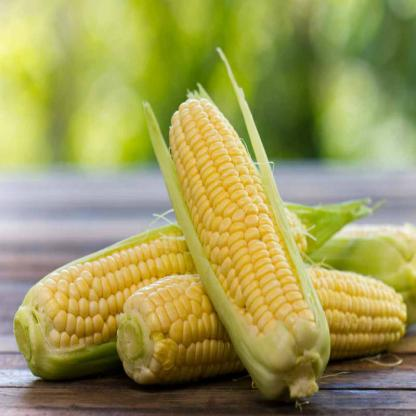---: (170, 89, 322, 380), (27, 222, 196, 355)
